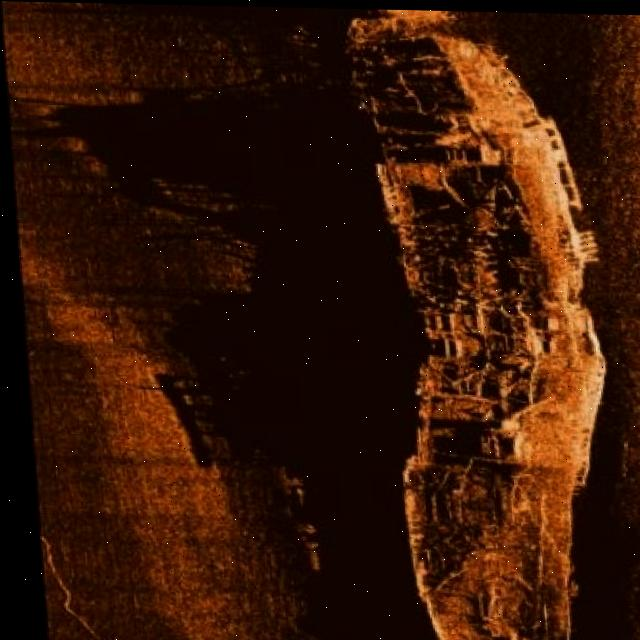shipwreck: (341, 6, 623, 640)
